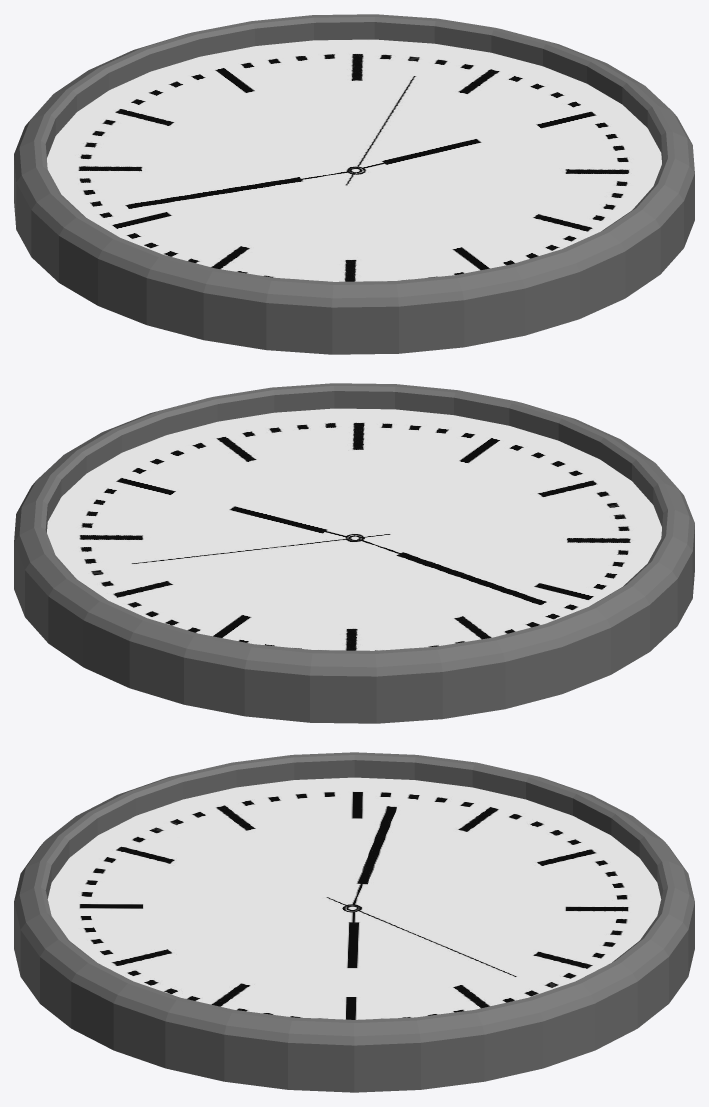
Rendered from Clock.fbx.
3 views of the same model, one above another, from view 1: azimuth 30°, elevation 25°; view 2: azimuth 150°, elevation 25°; view 3: azimuth 270°, elevation 25° (orthographic).
Parts seen in each view (by area): view 1: Cylinder.001, Cylinder; view 2: Cylinder.001, Cylinder; view 3: Cylinder.001, Cylinder.
Part boxes in pixels (<box>): Cylinder.001: <box>47,39,661,281</box>; Cylinder: <box>14,14,694,354</box>; Cylinder.001: <box>47,408,661,650</box>; Cylinder: <box>14,383,694,723</box>; Cylinder.001: <box>47,777,661,1019</box>; Cylinder: <box>14,752,694,1092</box>.
Size of the model in its own units: 93.45 by 9.29 by 93.45.
2 materials, 1 textured.
